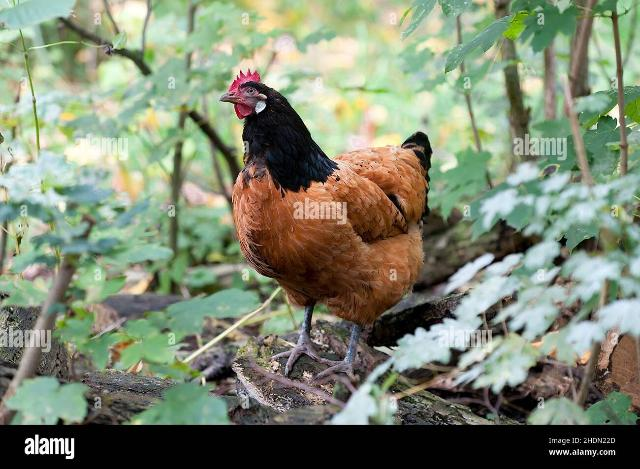Chicken: (217, 67, 434, 377)
